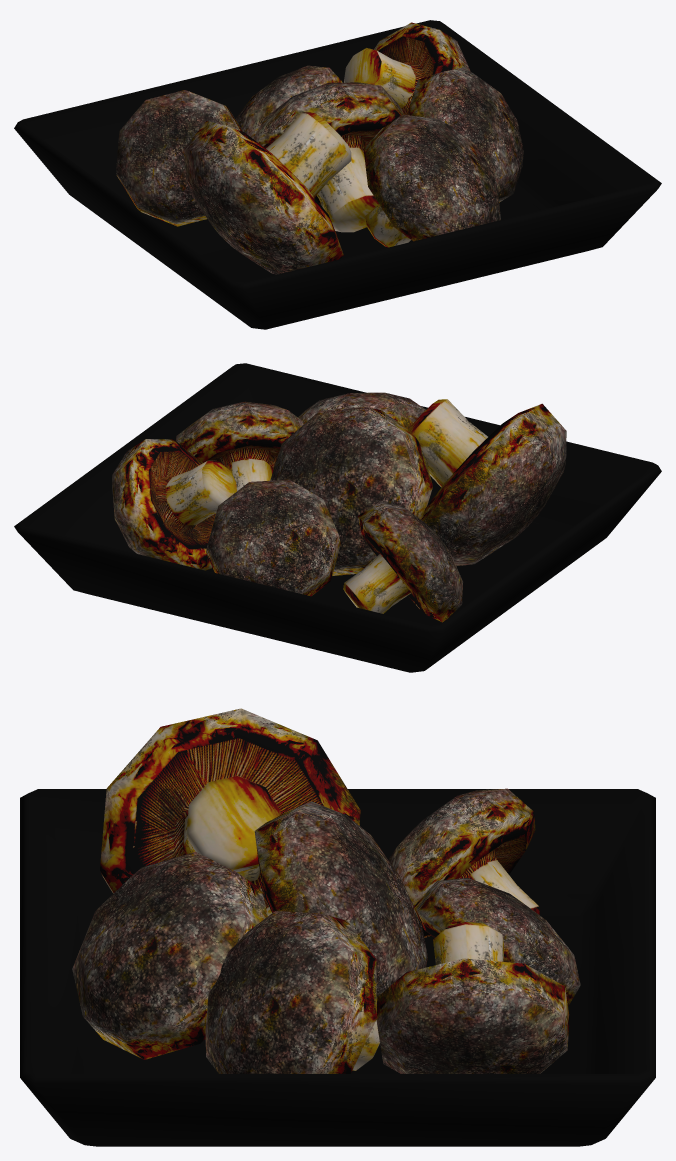
File: Jamur Busuk.fbx
3 views of the same model, one above another, from view 1: azimuth 30°, elevation 25°; view 2: azimuth 150°, elevation 25°; view 3: azimuth 270°, elevation 25° (orthographic). The views are drawn at different scales.
Parts seen in each view (by area): view 1: Jamur Busuk; view 2: Jamur Busuk; view 3: Jamur Busuk.
Part boxes in pixels (x1,y1,x2,y2): Jamur Busuk: [14, 20, 661, 329]; Jamur Busuk: [14, 363, 661, 672]; Jamur Busuk: [20, 708, 655, 1146].
Bounding box in the file's own units: 6.58 × 2.38 × 6.02.
Materials: 2 (2 with a texture image).
